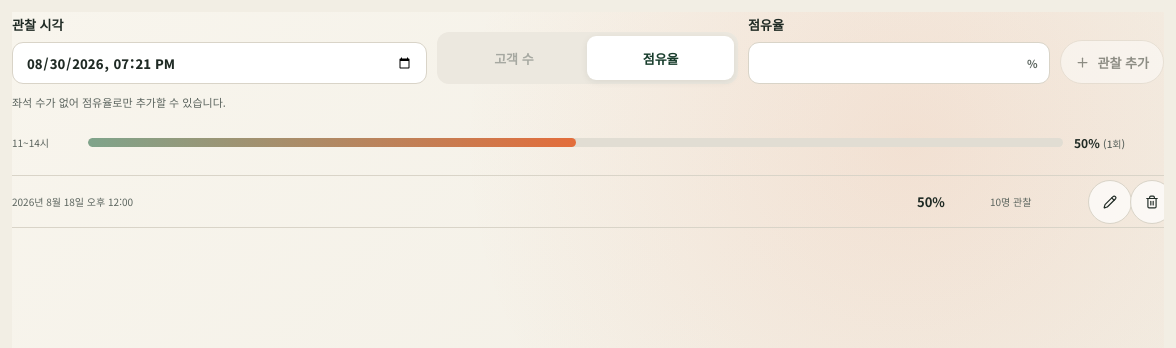
ObservationManager › edits a customer observation as its derived rate when seats are no longer available
The image size is (1176, 348).
Click the button named "관찰 수정" at (1110, 202), box 1088,180 -> 1132,224
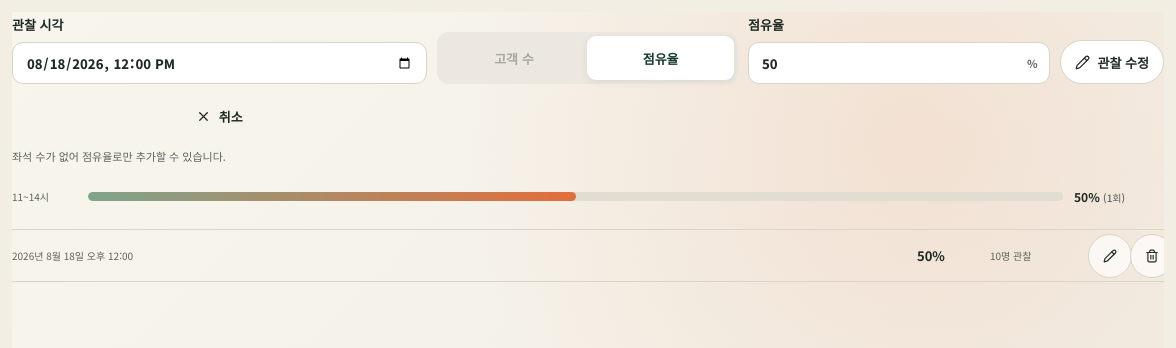
Expected: the text "점유율" is shown, 748,15 -> 784,34
Expected: the number field holds "50", 748,42 -> 1050,84
